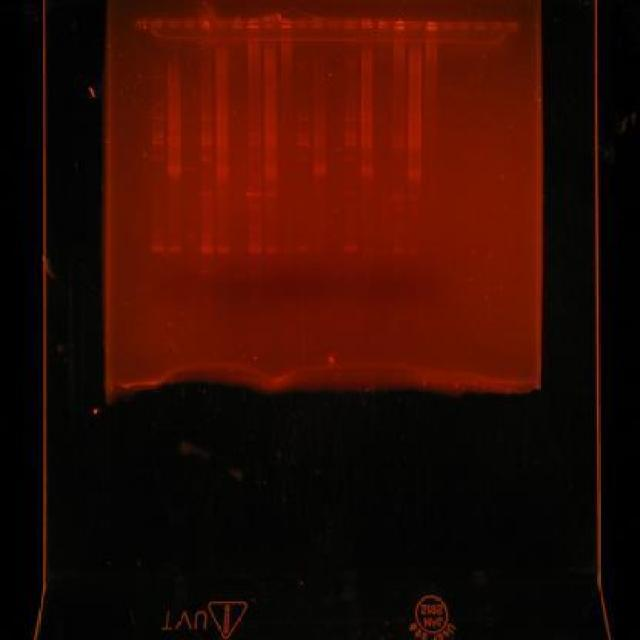B: (343, 243, 359, 254), (200, 244, 214, 256), (150, 243, 164, 254), (246, 246, 262, 254), (264, 246, 280, 254), (390, 247, 404, 256), (168, 244, 181, 253), (167, 170, 181, 178), (216, 246, 230, 254), (280, 246, 294, 254), (199, 232, 213, 240), (184, 232, 198, 240), (298, 244, 310, 253), (345, 190, 358, 198), (248, 205, 262, 212), (296, 115, 310, 122), (311, 173, 327, 179), (185, 165, 198, 172), (150, 140, 164, 146), (150, 114, 164, 120), (168, 166, 182, 172), (167, 140, 181, 146), (200, 141, 214, 147), (200, 191, 214, 197), (216, 190, 230, 196), (216, 166, 230, 172), (216, 142, 230, 148), (216, 136, 230, 142), (216, 110, 230, 116), (199, 202, 213, 208), (248, 192, 262, 198), (264, 172, 278, 178), (264, 166, 278, 172), (248, 141, 262, 147), (247, 132, 261, 138), (264, 141, 278, 147), (264, 136, 278, 142), (296, 141, 310, 147), (296, 154, 310, 160), (264, 116, 278, 122), (344, 116, 358, 122), (344, 132, 358, 138), (344, 136, 358, 142), (344, 141, 358, 147), (360, 166, 374, 172), (248, 226, 262, 232), (390, 194, 404, 200), (390, 143, 404, 149), (407, 194, 421, 200), (407, 174, 421, 180), (151, 154, 164, 160), (200, 136, 213, 142), (216, 171, 229, 177), (200, 154, 212, 160), (314, 136, 326, 142), (360, 116, 372, 122), (152, 135, 166, 140), (167, 135, 181, 140), (216, 133, 230, 138), (264, 192, 278, 197), (264, 132, 278, 137), (296, 136, 310, 141), (296, 132, 310, 137), (344, 155, 358, 160), (313, 142, 327, 147), (408, 119, 422, 124), (407, 169, 421, 174), (408, 145, 422, 150), (408, 136, 422, 141), (360, 173, 374, 178), (216, 116, 229, 121), (360, 142, 372, 147), (313, 168, 327, 172), (392, 134, 406, 138), (359, 112, 373, 116), (408, 114, 422, 118), (151, 132, 164, 136), (360, 138, 372, 142), (199, 117, 213, 120), (312, 121, 326, 124), (248, 150, 262, 153), (312, 117, 326, 120), (168, 117, 181, 120), (200, 133, 212, 136), (408, 142, 421, 144), (360, 136, 372, 138)
L: (128, 12, 522, 36)
Pc: (310, 16, 326, 29), (134, 17, 148, 31), (263, 14, 277, 28), (246, 16, 260, 29), (393, 18, 407, 31), (424, 19, 438, 32), (456, 20, 472, 31), (279, 18, 293, 30), (376, 18, 390, 30), (488, 20, 502, 32), (473, 20, 487, 32), (441, 20, 456, 31), (231, 18, 244, 30), (328, 18, 341, 30), (183, 17, 197, 28), (198, 19, 212, 30), (216, 17, 230, 28), (296, 17, 310, 28), (344, 17, 358, 28), (360, 17, 374, 28), (408, 19, 422, 30), (151, 17, 164, 28), (167, 17, 180, 28), (504, 22, 518, 32)
